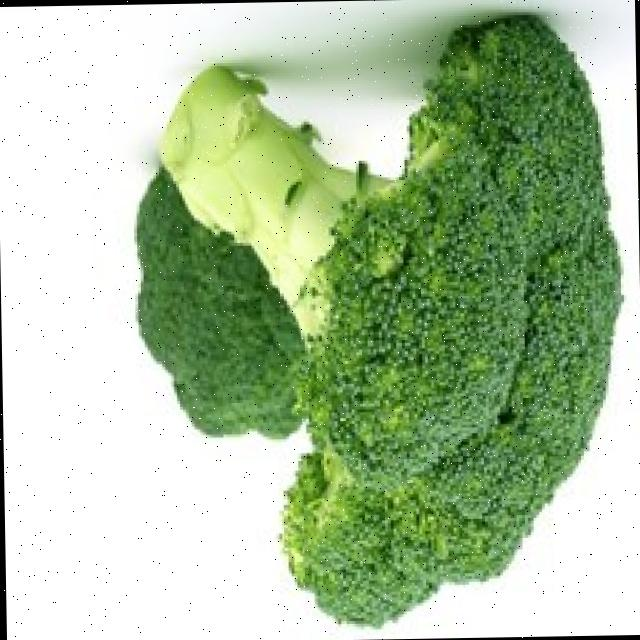Broccoli: (139, 17, 620, 624), (139, 17, 618, 624), (303, 18, 534, 486)
